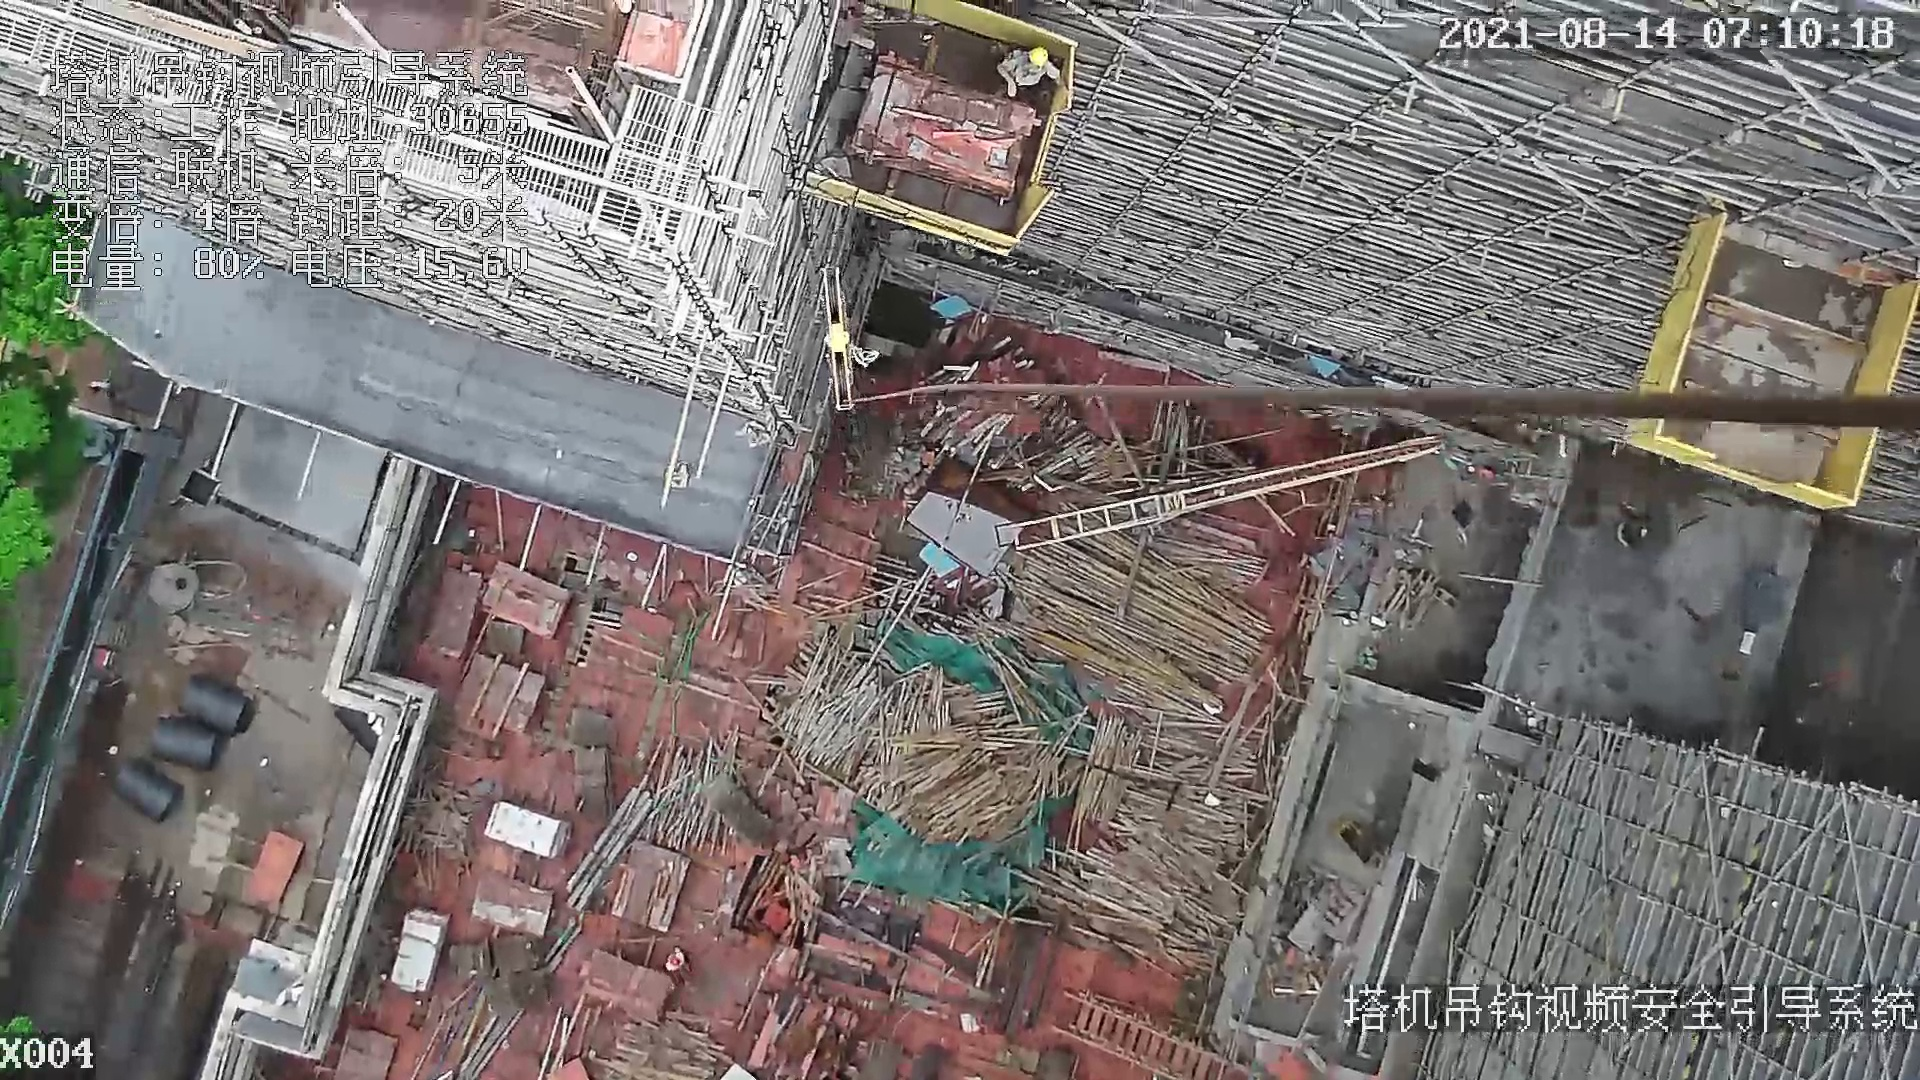helmet: (1025, 47, 1051, 74), (669, 956, 682, 966)
hook: (808, 265, 860, 417)
person: (994, 37, 1064, 107), (659, 945, 687, 969)
